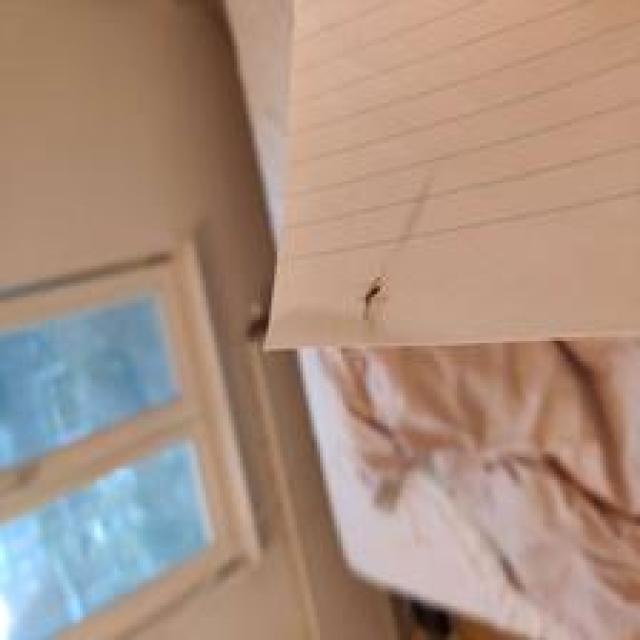Culex: (303, 337, 640, 640)
